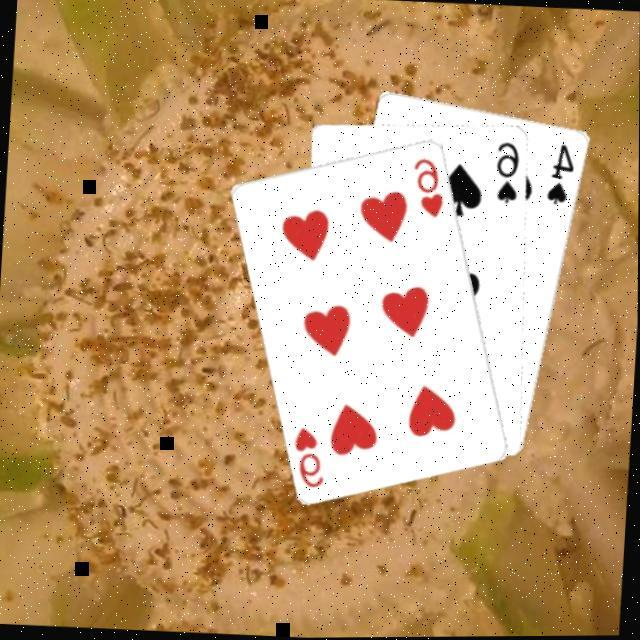4S: (542, 140, 577, 208)
6H: (406, 152, 447, 220), (288, 422, 329, 490)
6S: (490, 137, 522, 206)
